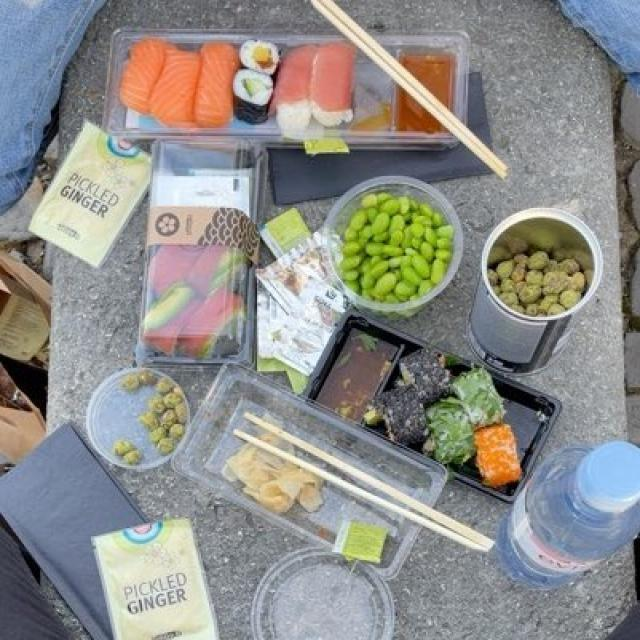sauce: (323, 338, 390, 408)
sushi: (121, 39, 521, 480)
